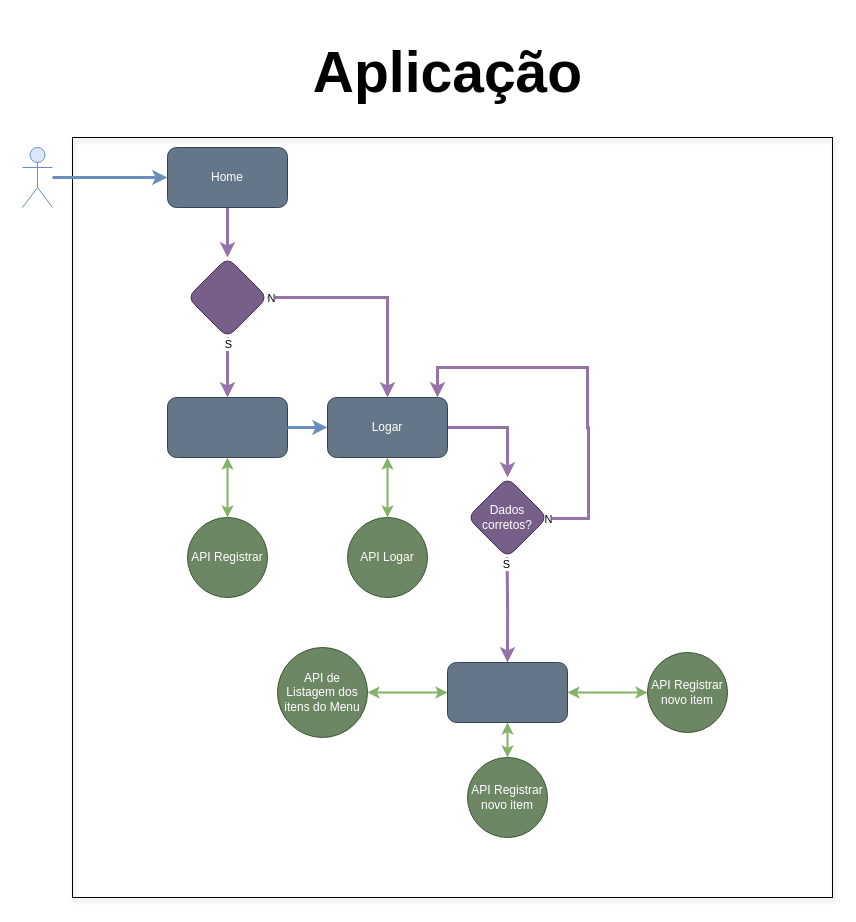
The diagram is 856 pixels wide and 922 high, and some of its shapes have lost their labels. The shapes that lost their labels are listed below. From the top down, each one's centre as x and y in pixels, then its label:
At point 37,177: "Usuario".
At point 227,297: "Primeiro Acesso?".
At point 227,427: "Registrar".
At point 507,692: "Cardapio/Menu".
